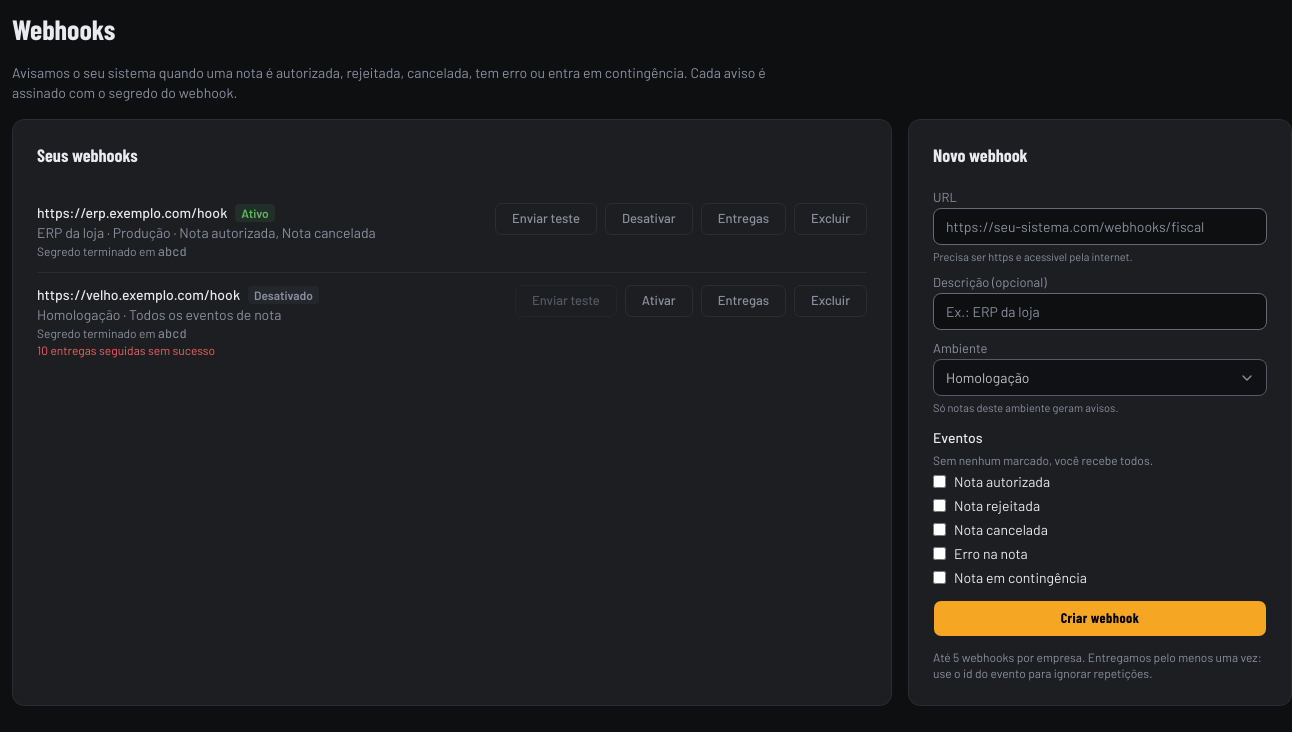
Scenario: webhooks › a URL é obrigatória
The image size is (1292, 732).
Click the button "Criar webhook". click: (1100,618)
box: [933, 600, 1267, 637]
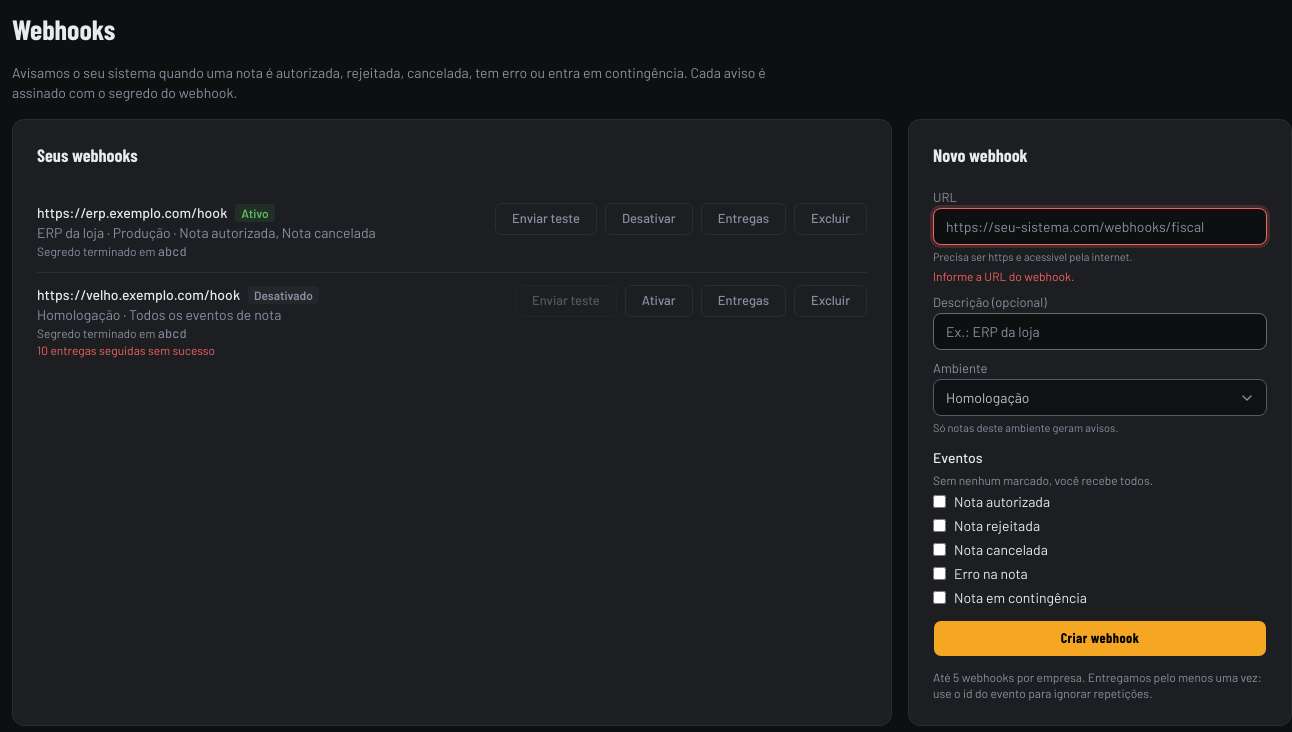
Check: the text "Informe a URL do webhook." is shown, box [933, 269, 1074, 283]
